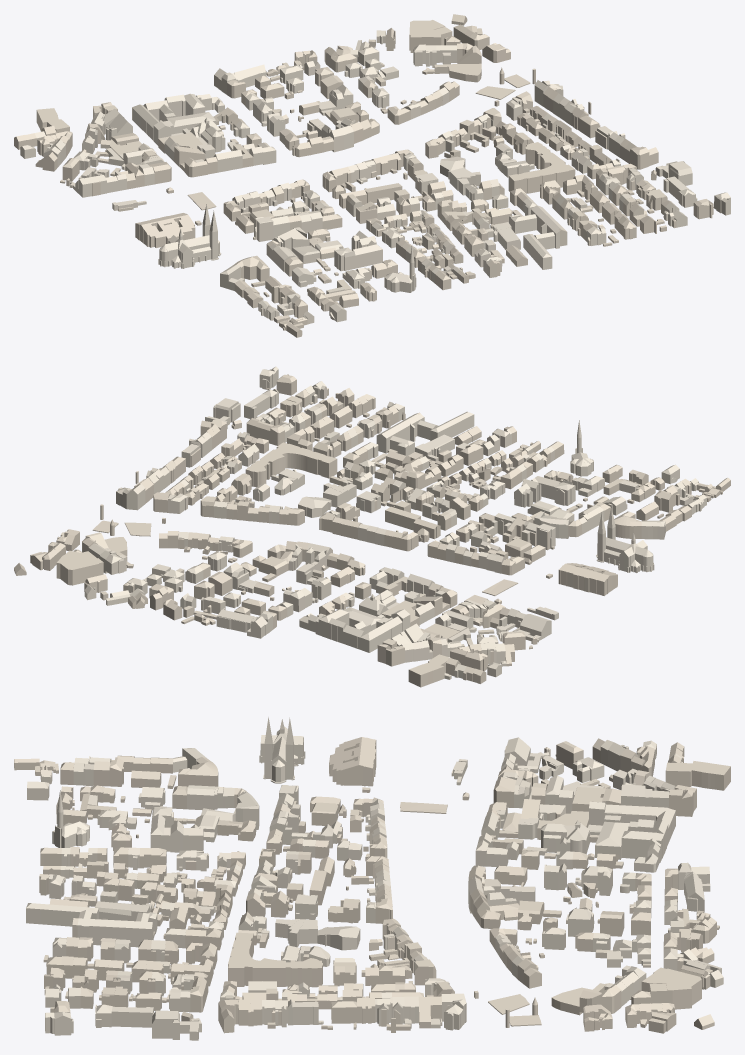
The picture shows the model from 3 angles, top to bottom: view 1: azimuth 30°, elevation 25°; view 2: azimuth 150°, elevation 25°; view 3: azimuth 270°, elevation 25°; orthographic projection. The views are drawn at different scales.
Bounding box in the file's own units: 642 × 65 × 657.
